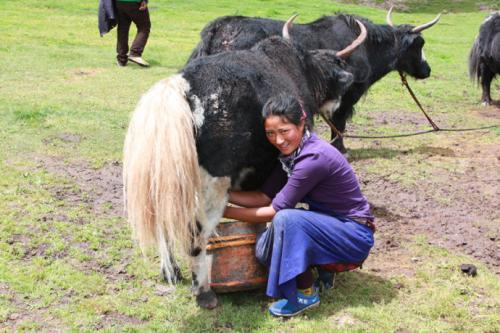bending: (221, 94, 369, 316)
